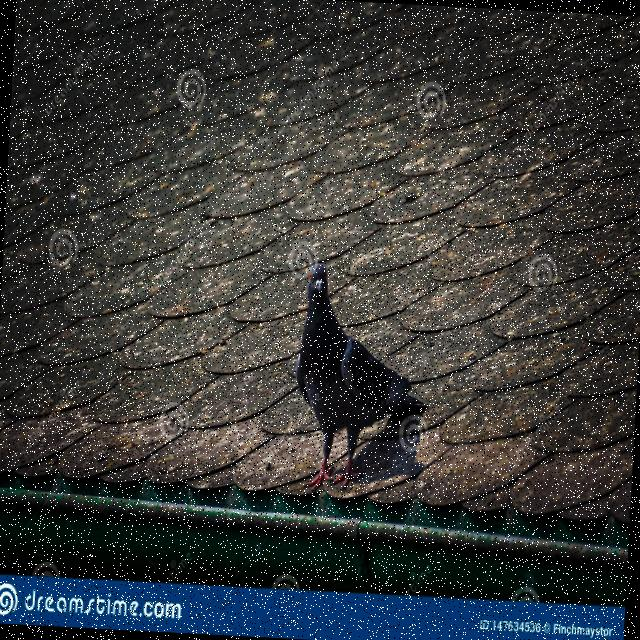bird: (288, 260, 437, 498)
